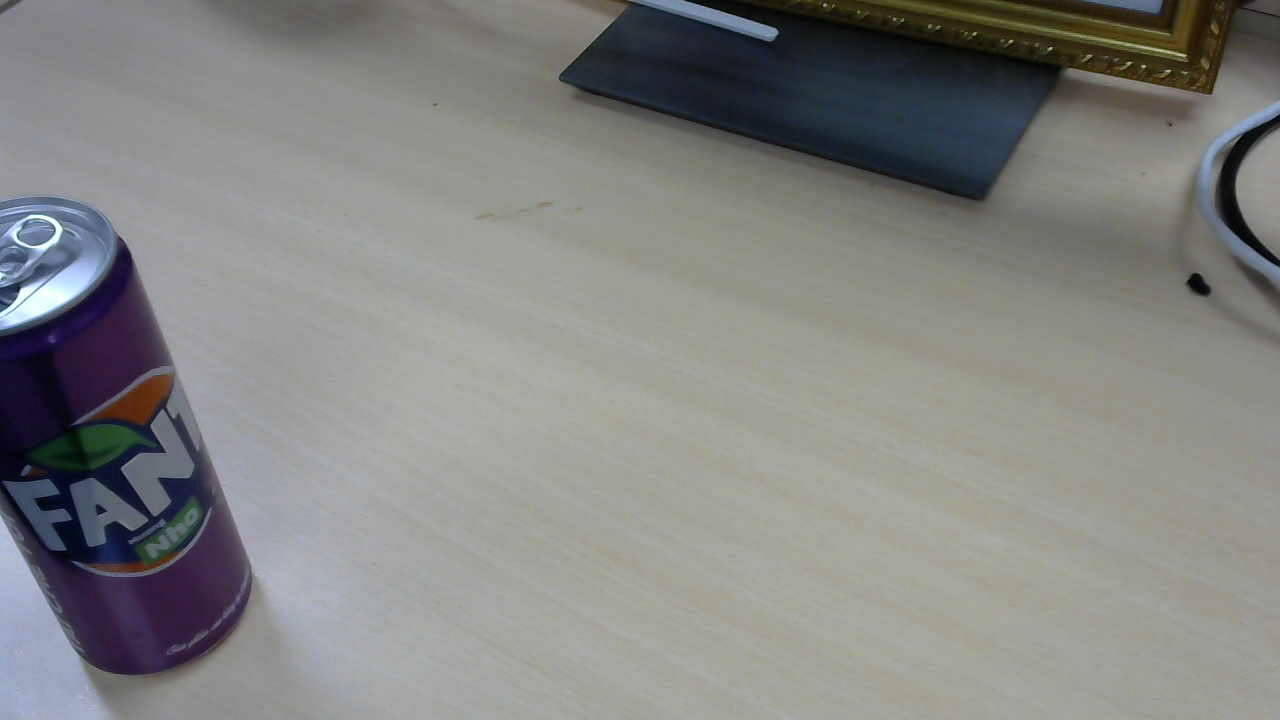Fanta: (5, 202, 259, 681)
